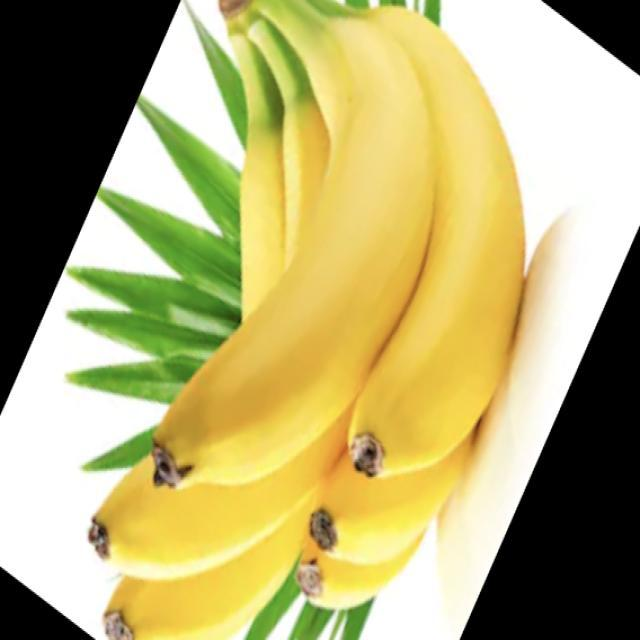Banana: (82, 0, 527, 639)
